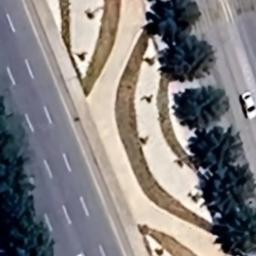sedan: (238, 90, 256, 121)
